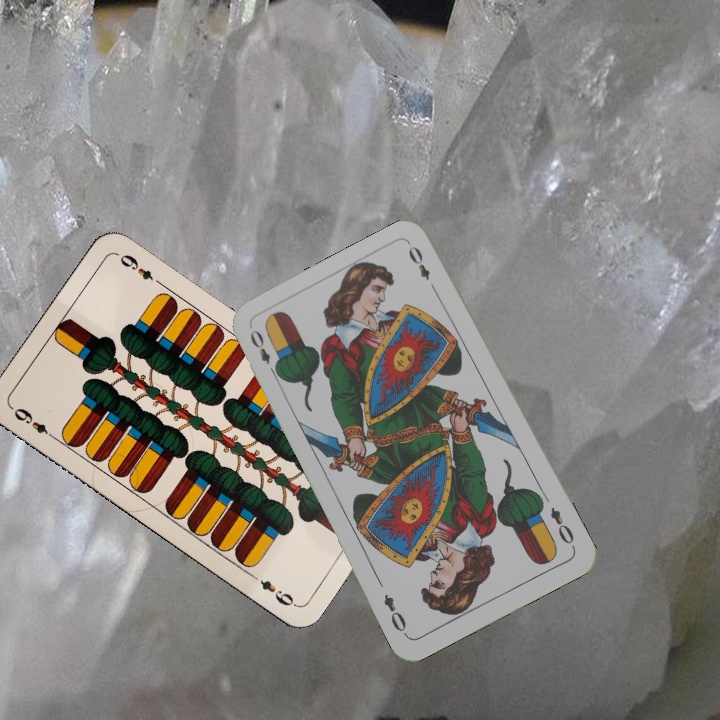E9: (10, 403, 59, 443)
EO: (246, 325, 281, 380), (546, 503, 578, 551)
